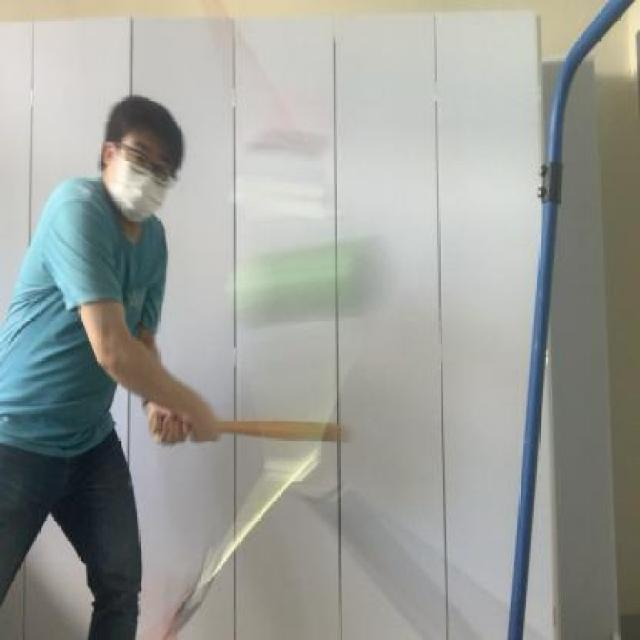baseball: (221, 235, 384, 332)
